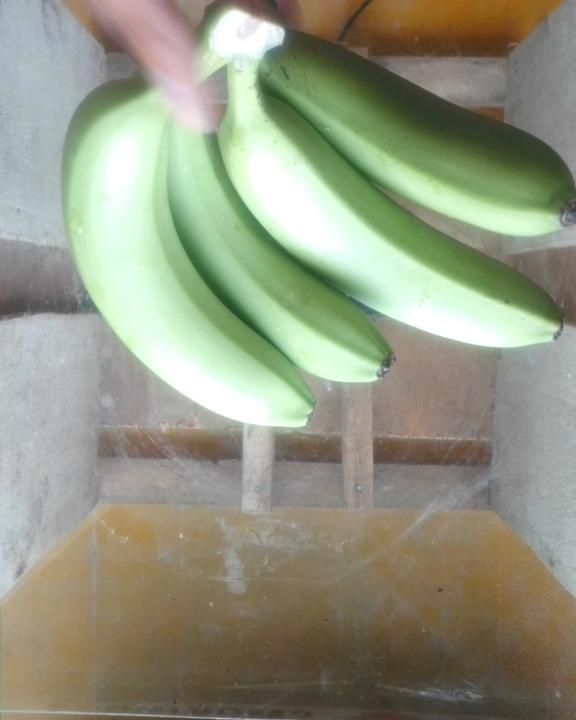SPOT: (50, 2, 576, 437)
